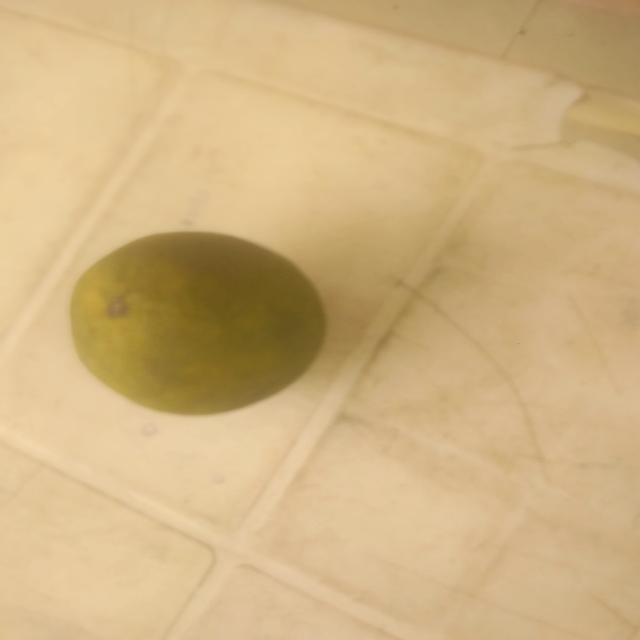agrume: (52, 218, 345, 430)
